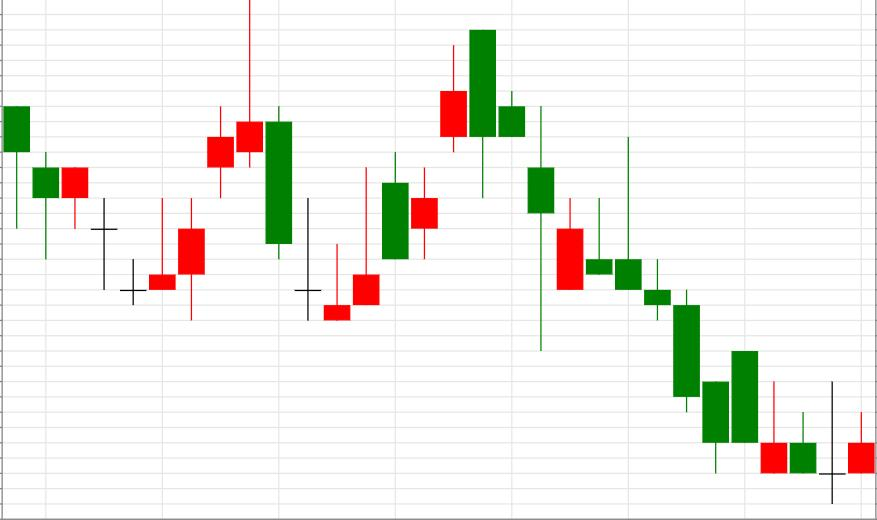bearish_engulfing_fall: (323, 31, 496, 321)
shooting_star_fall: (120, 0, 262, 321)
